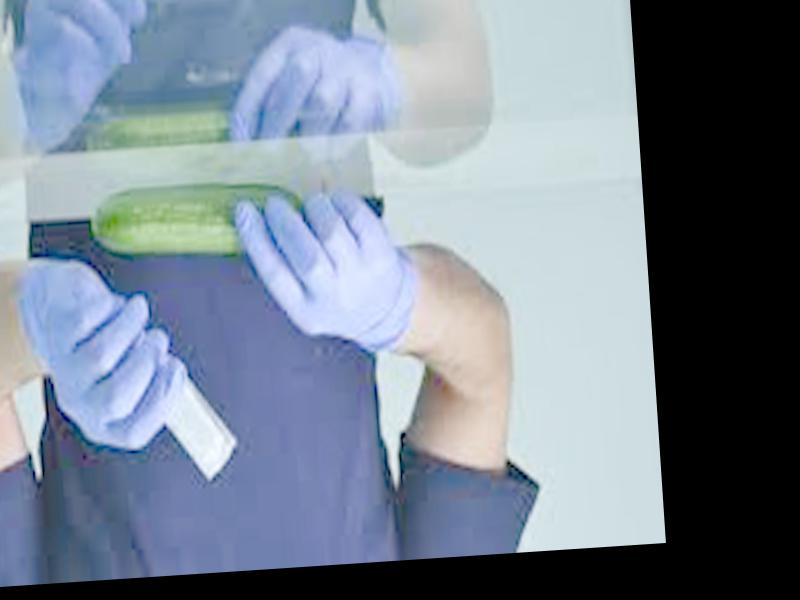Cucumber: (88, 176, 303, 261)
